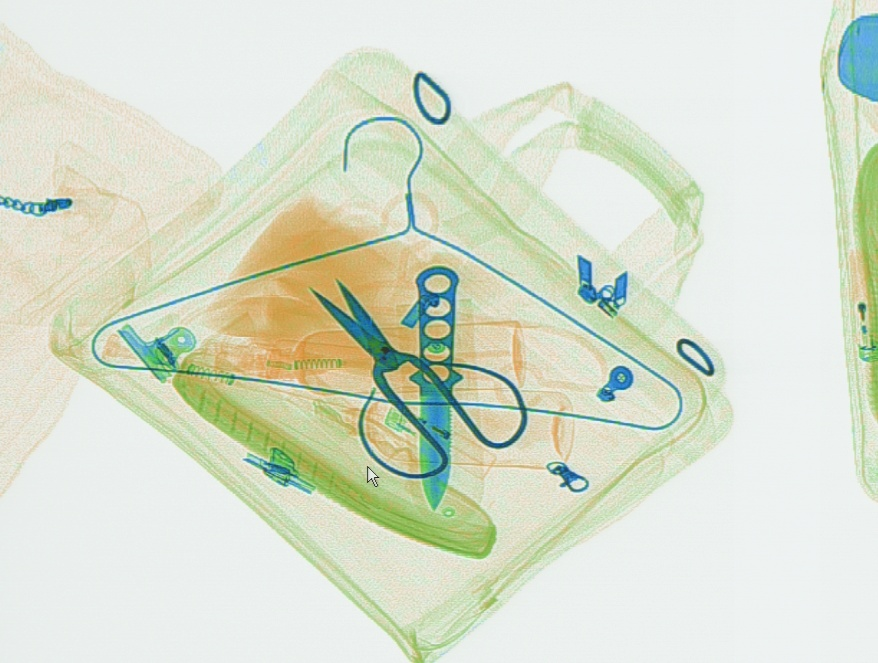knife: (402, 261, 469, 513)
lighter: (382, 402, 500, 481), (838, 238, 876, 365)
scissors: (305, 278, 532, 475)
